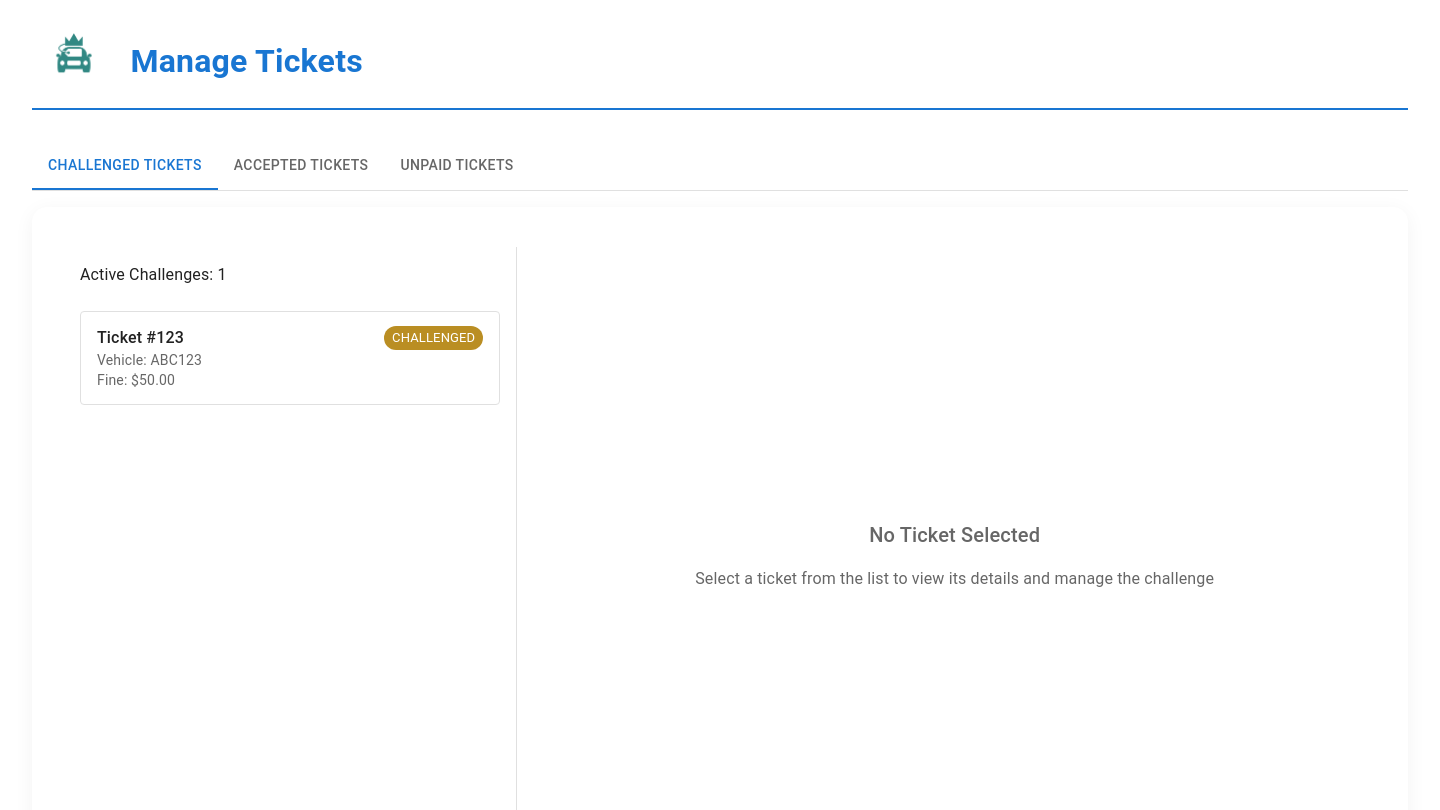
Scenario: shows error state when fetching accepted tickets fails
Note: Switch to accepted tickets tab
Click the tab "Accepted Tickets" at (301, 166), box [218,142,384,190]
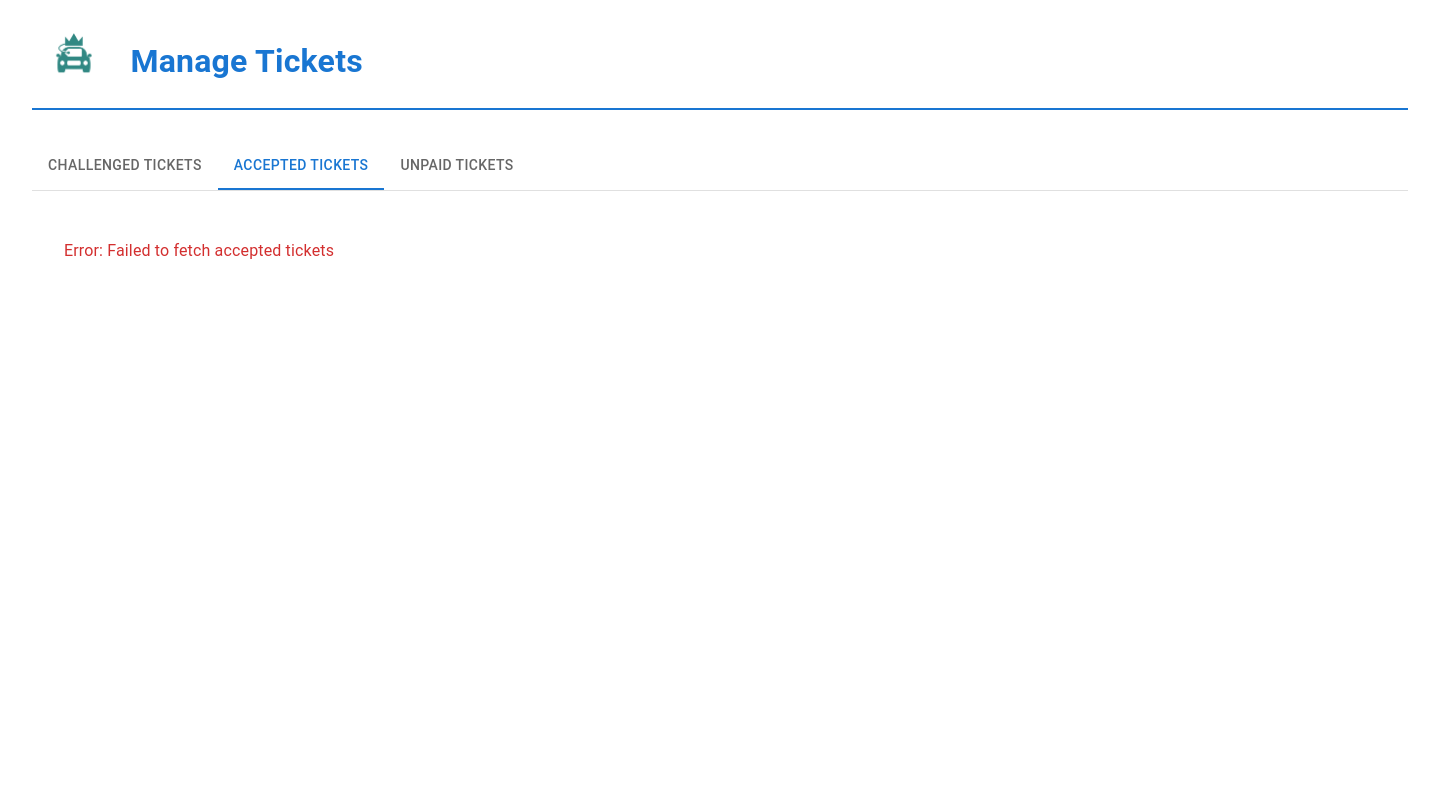
Result: the text "Error: Failed to fetch accepted tickets" is shown at [64,241,334,260]
